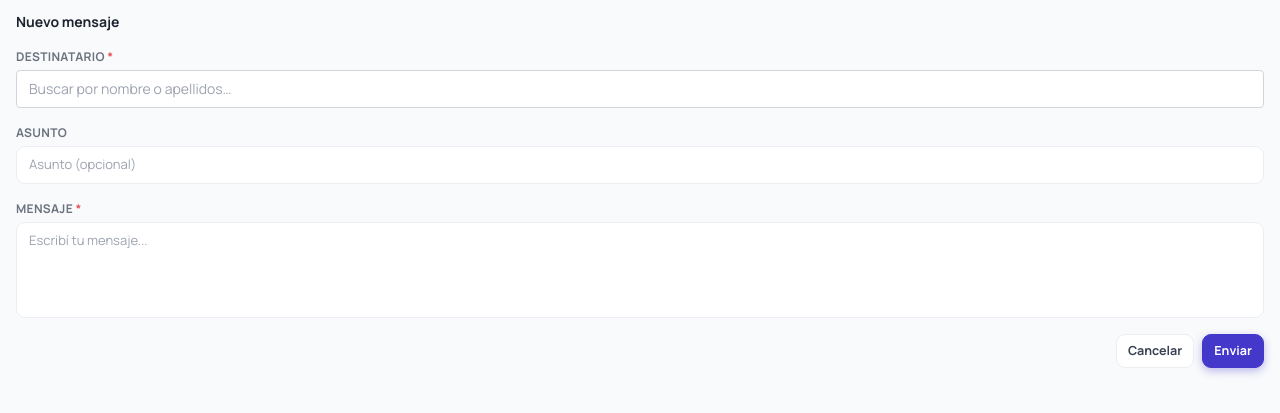
Test case: NuevoHiloForm — submit › shows validation error when submitted without destinatario
# Fill cuerpo but leave destinatario empty
In the text box with placeholder "Escribí tu mensaje...": x=640, y=270 [16,222,1264,318], type "Hola!"
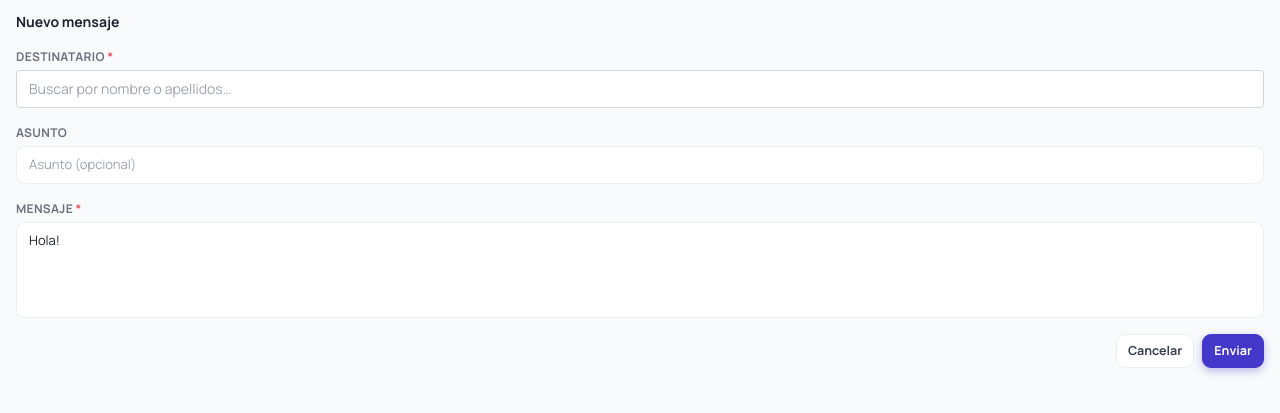
Click the button "Enviar": x=1233, y=351 [1202,334,1264,368]
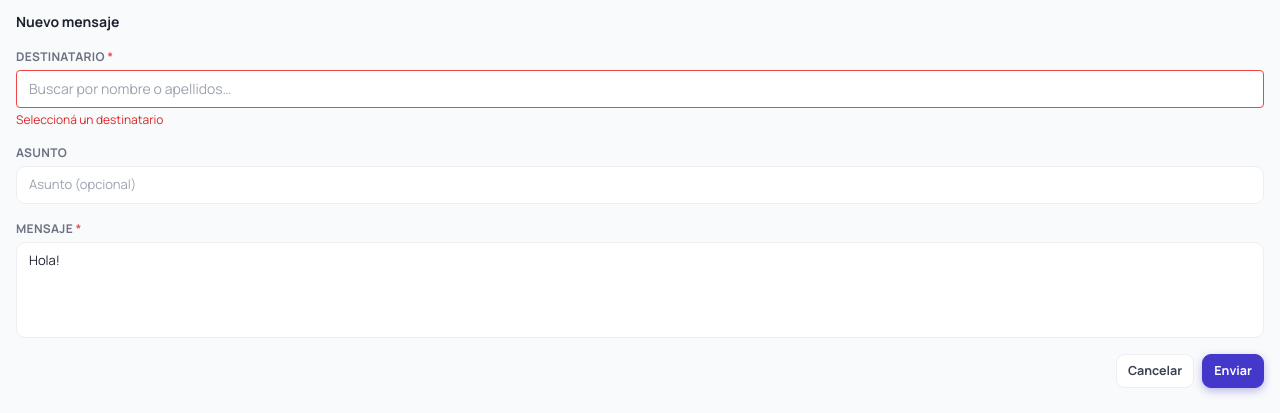
Result: the text "Seleccioná un destinatario" is shown at [16,111,163,128]
